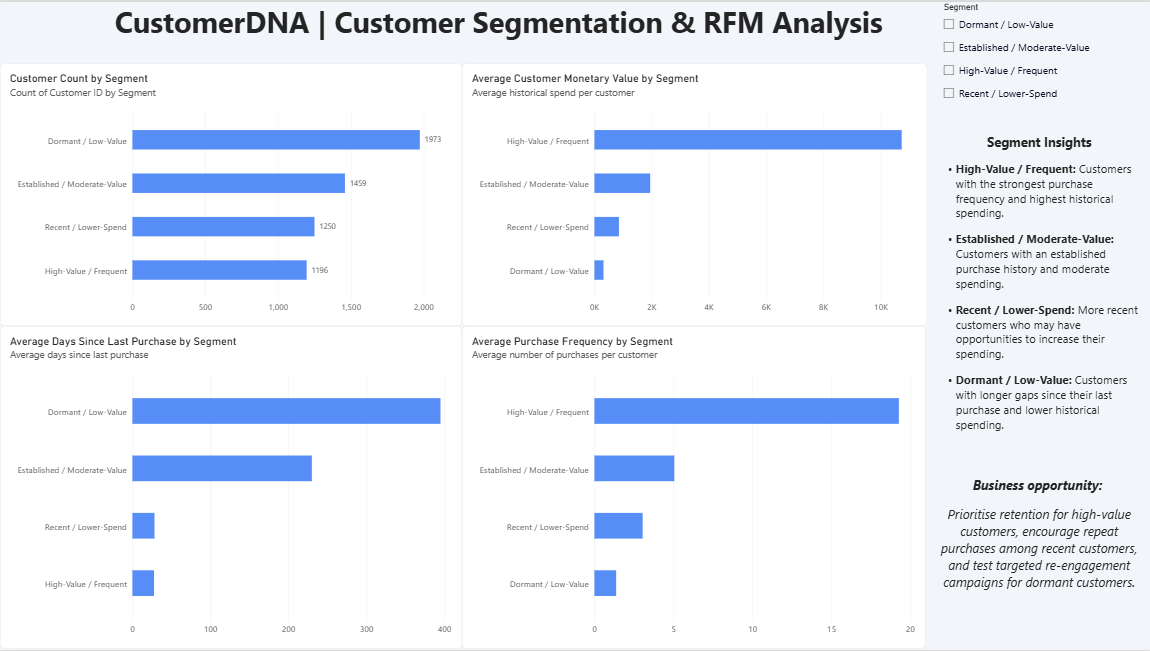

The dashboard page shown, as its layout file describes it:
{"tool":"powerbi","page":{"name":"Page 2","canvas":[1920,1080],"ordinal":1},"visuals":[{"type":"clusteredBarChart","title":"Customer Count by Segment","fields":{"Category":["customer_rfm_segments.Segment"],"Y":["CountNonNull(customer_rfm_segments.Customer ID)"]},"box":[0,102.5,770,437.5],"z":0},{"type":"clusteredBarChart","title":"Average Customer Monetary Value by Segment","fields":{"Category":["customer_rfm_segments.Segment"],"Y":["Avg(customer_rfm_segments.Monetary)"]},"box":[770,102.5,775,437.5],"z":1000},{"type":"clusteredBarChart","title":"Average Days Since Last Purchase by Segment","fields":{"Category":["customer_rfm_segments.Segment"],"Y":["Avg(customer_rfm_segments.Recency)"]},"box":[0,540,770,537.5],"z":2000},{"type":"clusteredBarChart","title":"Average Purchase Frequency by Segment","fields":{"Category":["customer_rfm_segments.Segment"],"Y":["Avg(customer_rfm_segments.Frequency)"]},"box":[770,540,772.5,537.5],"z":3000},{"type":"textbox","box":[0,0,1662.5,87.5],"z":4000},{"type":"slicer","fields":{"Values":["customer_rfm_segments.Segment"]},"box":[1564.9,0,354.3,252.1],"z":5000},{"type":"textbox","box":[1564.9,218,333.9,858.6],"z":6000}]}

Visuals, with their boxes in screenshot pixels (x1, y1, x2, y2), scaled from the page's 1920x1080 canvas onto the 1150x651 screenshot:
"Customer Count by Segment" clusteredBarChart: 0 62 461 326
"Average Customer Monetary Value by Segment" clusteredBarChart: 461 62 925 326
"Average Days Since Last Purchase by Segment" clusteredBarChart: 0 326 461 649
"Average Purchase Frequency by Segment" clusteredBarChart: 461 326 924 649
textbox: 0 0 996 53
slicer - customer_rfm_segments.Segment: 937 0 1149 152
textbox: 937 131 1137 649
